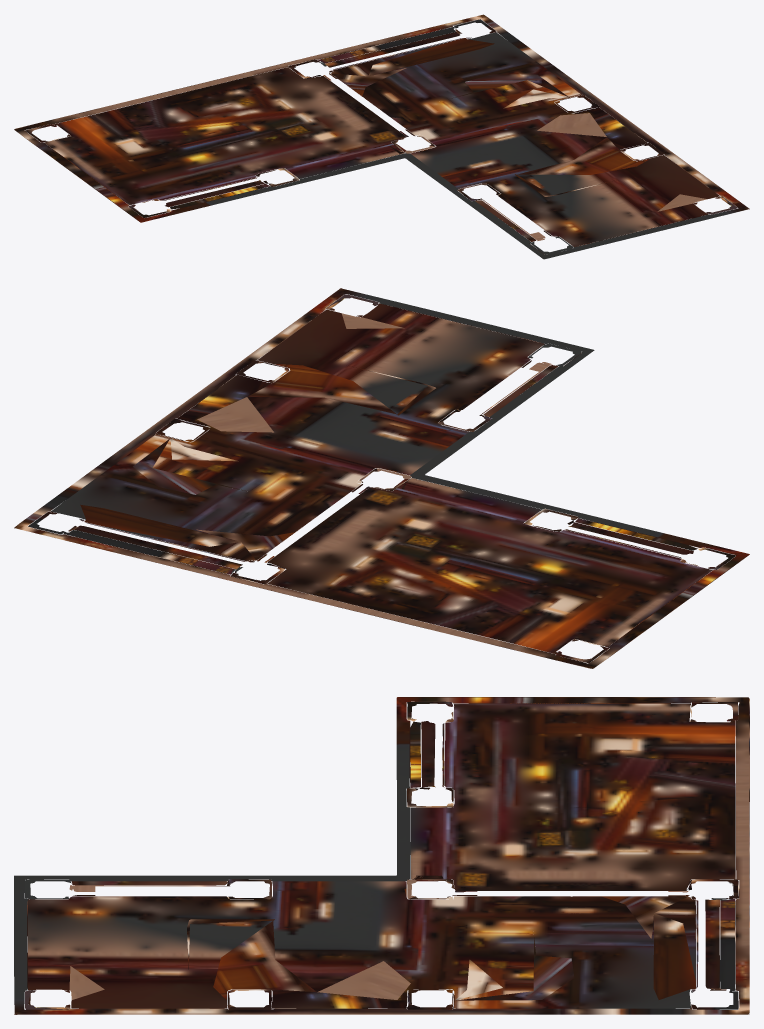
File: HallWayWithTurn1_Floor.fbx
3 renders of one model, top to bottom at view 1: azimuth 30°, elevation 25°; view 2: azimuth 150°, elevation 25°; view 3: azimuth 270°, elevation 25°, orthographic. The views are drawn at different scales.
Parts seen in each view (by area): view 1: HallWayWithTurn1_Floor; view 2: HallWayWithTurn1_Floor; view 3: HallWayWithTurn1_Floor.
Boxes of the visible parts, <box> form: HallWayWithTurn1_Floor: <box>14,14,749,259</box>; HallWayWithTurn1_Floor: <box>14,288,749,668</box>; HallWayWithTurn1_Floor: <box>14,697,749,1014</box>.
Size of the model in its own units: 7.87 by 1.26e-06 by 7.71.
Materials: 1 (1 with a texture image).
